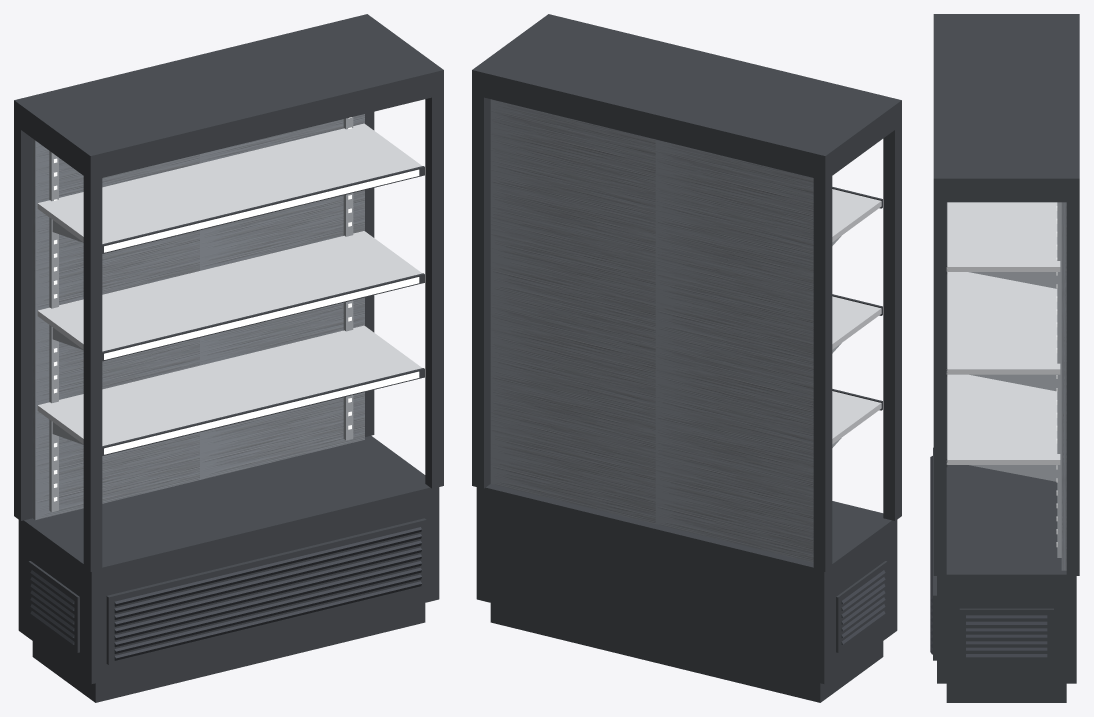
File: Single_Fridge.glb
3 renders of one model, left to right at view 1: azimuth 30°, elevation 25°; view 2: azimuth 150°, elevation 25°; view 3: azimuth 270°, elevation 25°, orthographic. The views are drawn at different scales.
Visible parts, largest first — view 1: Mesh_114.003; view 2: Mesh_114.003; view 3: Mesh_114.003.
Part boxes in pixels (x1,y1,x2,y2): Mesh_114.003: (14, 14, 443, 702); Mesh_114.003: (472, 14, 901, 702); Mesh_114.003: (930, 14, 1079, 702).
Size of the model in its own units: 1.2 by 1.8 by 0.4608.
80 materials, 1 textured.
